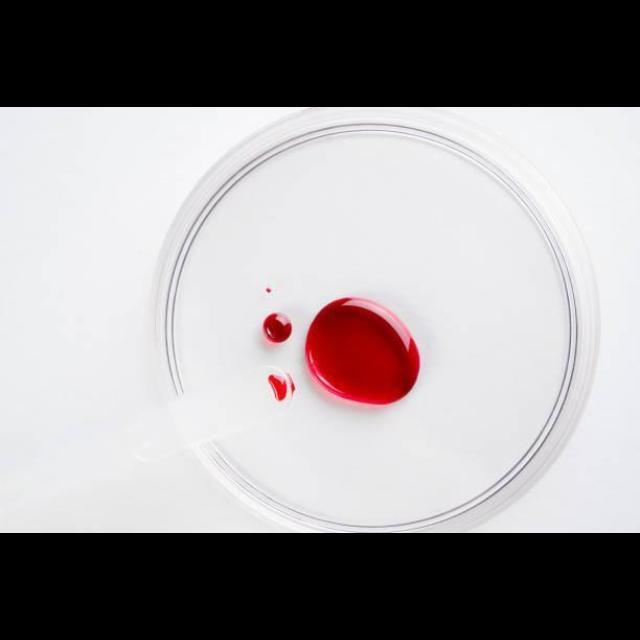blood: (305, 298, 421, 406), (268, 369, 296, 401), (264, 313, 292, 343), (260, 284, 276, 299)
